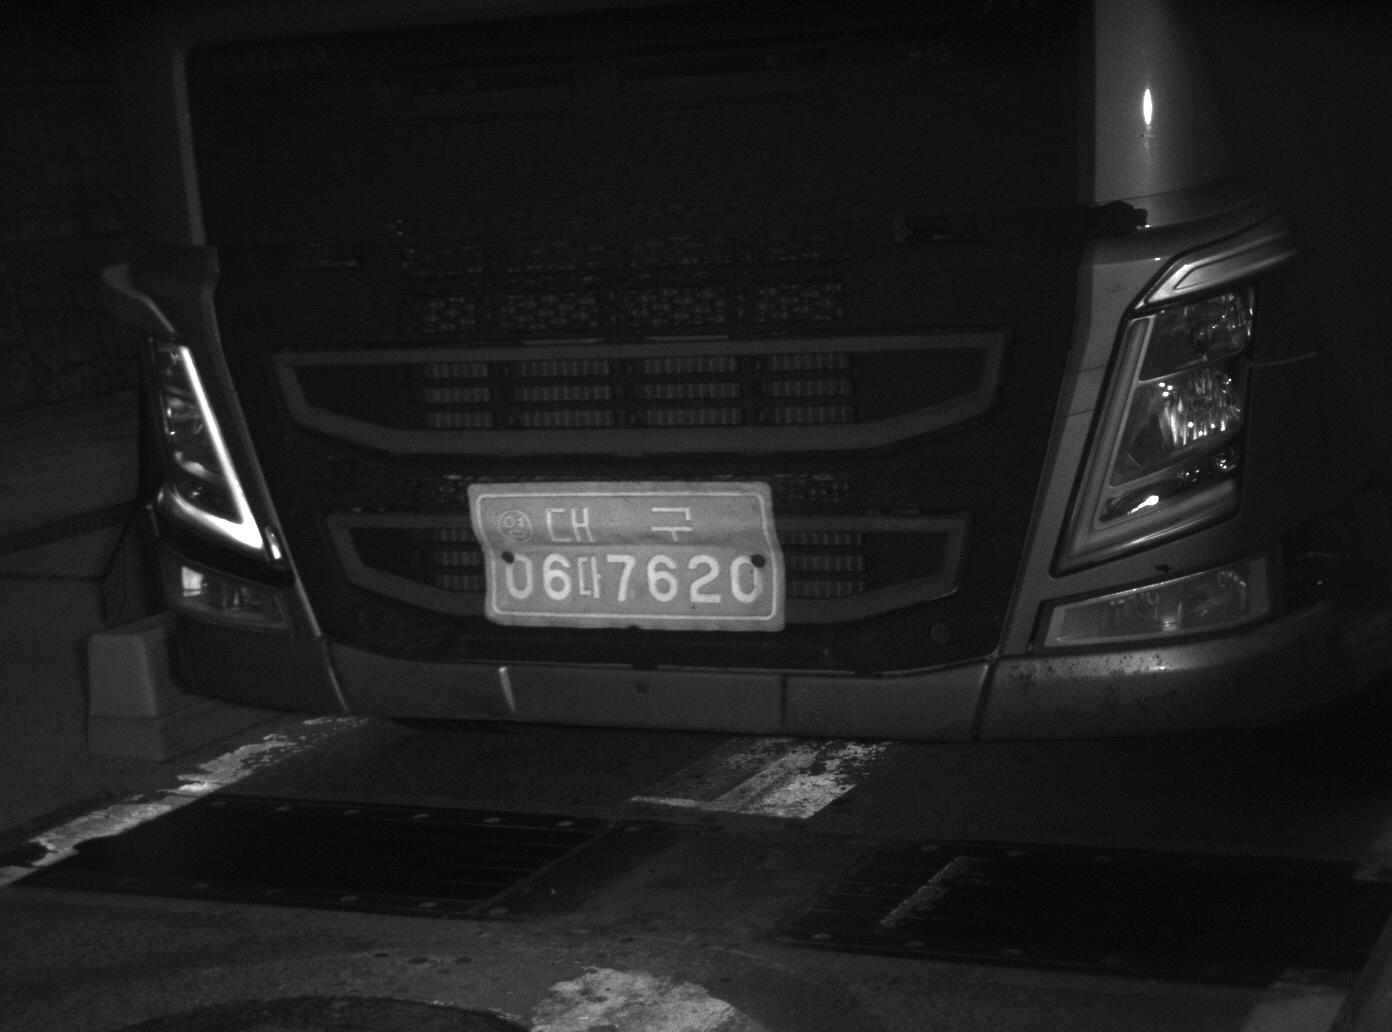car: (97, 3, 1392, 739)
plate: (464, 481, 786, 632)
